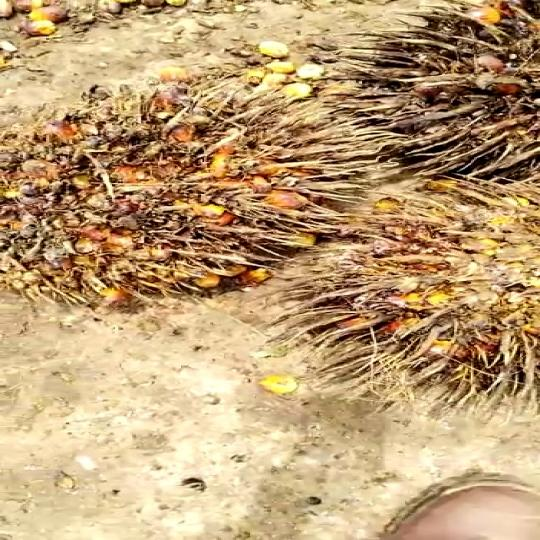terlalu masak: (0, 72, 410, 321), (277, 181, 540, 390)
